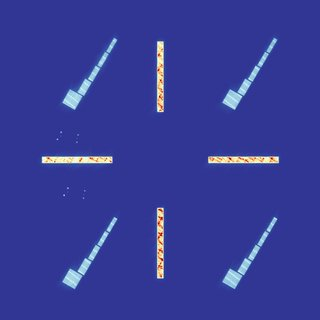overheated: (157, 41, 164, 112), (208, 157, 279, 164), (157, 208, 164, 279), (42, 157, 114, 163)
